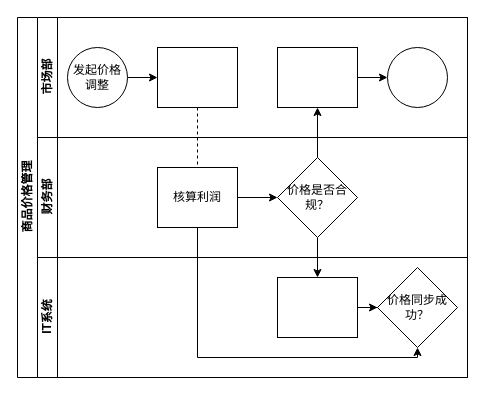
The diagram is 485 pixels wide and 395 high, and some of its shapes have lost their labels. Here are the shapes that lost their labels. From the top down, the centre of each, then its label:
(197,77): 分析成本和市场数据
(317,77): 制定价格调整方案
(417,77): 方案提交审核
(317,307): 更新价格
